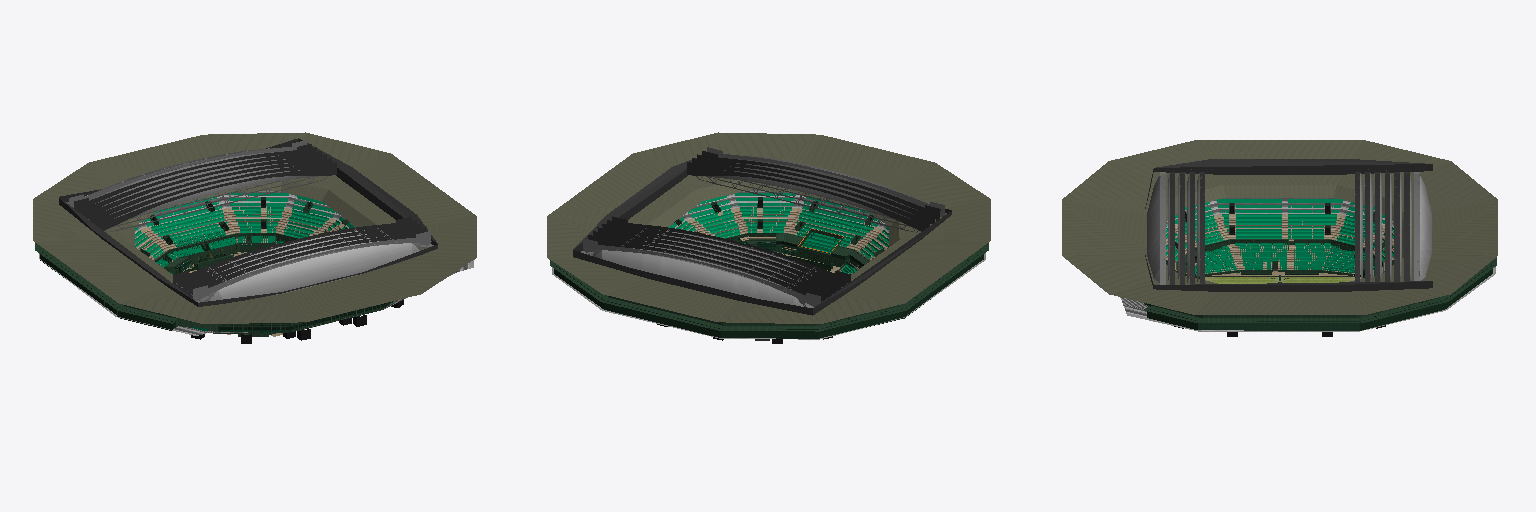
3 views of the same model, side by side, from view 1: azimuth 30°, elevation 25°; view 2: azimuth 150°, elevation 25°; view 3: azimuth 270°, elevation 25° (orthographic).
Bounding box in the file's own units: 114 × 26.2 × 120.
Materials: 4 (4 with a texture image).